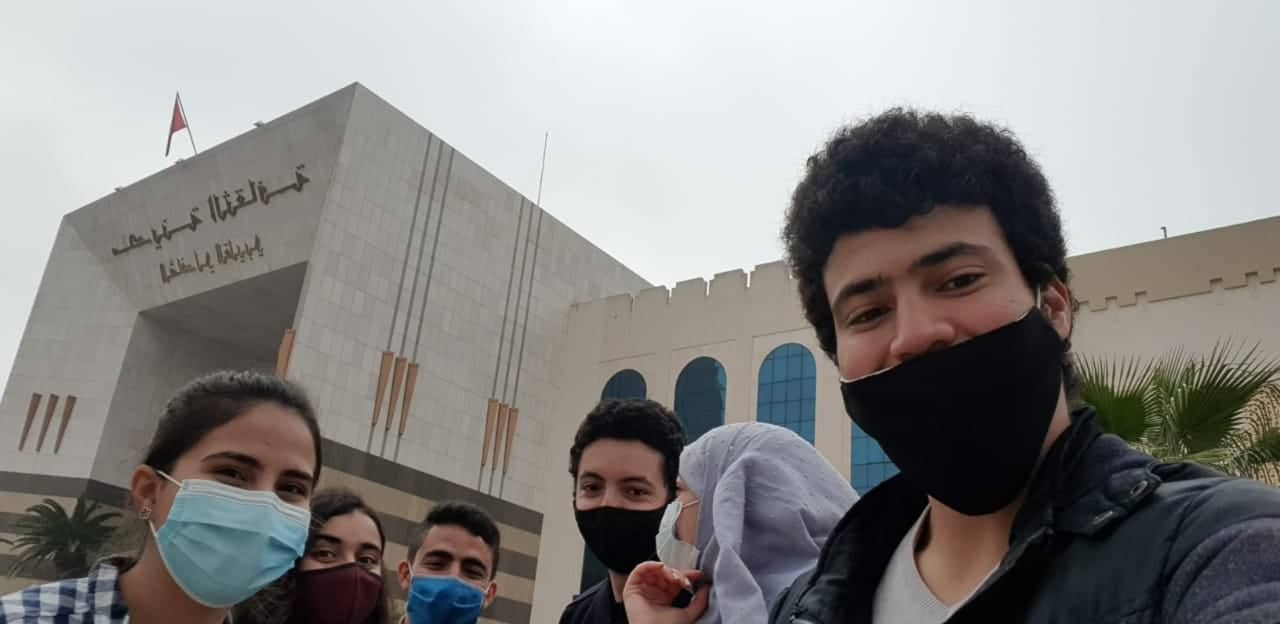mask_weared_incorrect: (827, 239, 1060, 485)
